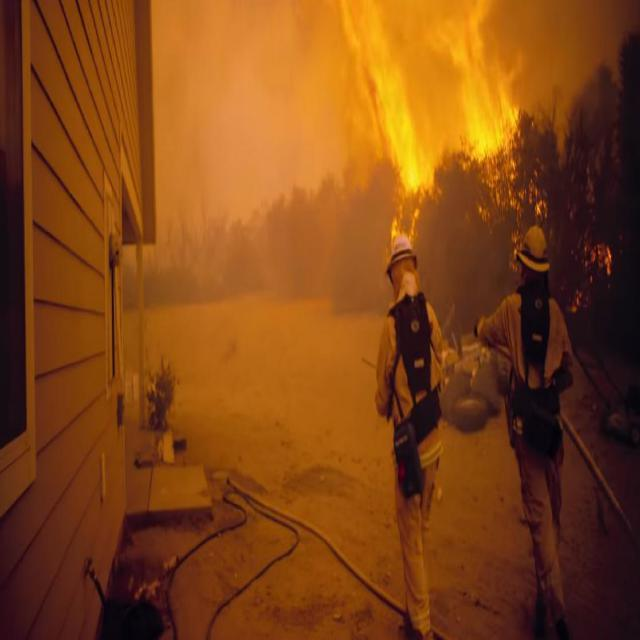Fire: (337, 5, 449, 248), (448, 8, 540, 210)
